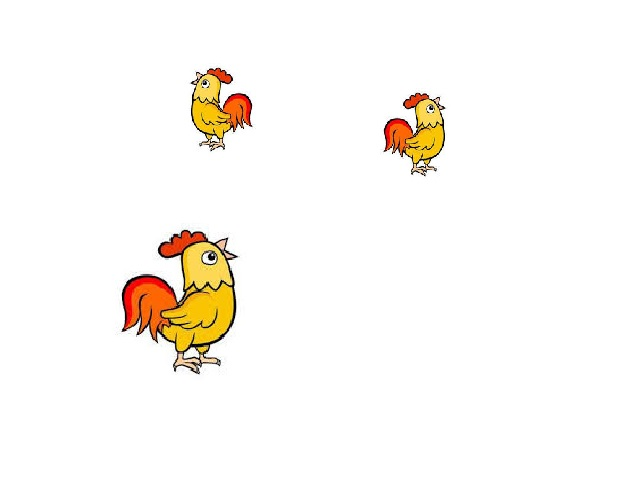crown: (154, 231, 209, 255), (209, 68, 239, 85), (402, 90, 429, 107)
eyes: (203, 251, 217, 265), (202, 78, 209, 88), (427, 105, 436, 112)
feet: (174, 353, 224, 374), (413, 161, 440, 180), (200, 136, 226, 153)
tail: (116, 272, 182, 341), (221, 95, 260, 126), (383, 121, 412, 154)
